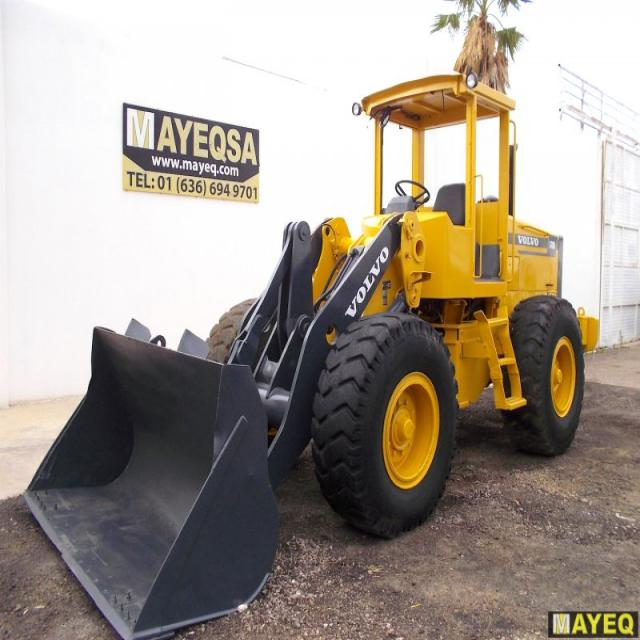buldozerpayloadergrader: (27, 70, 586, 635)
